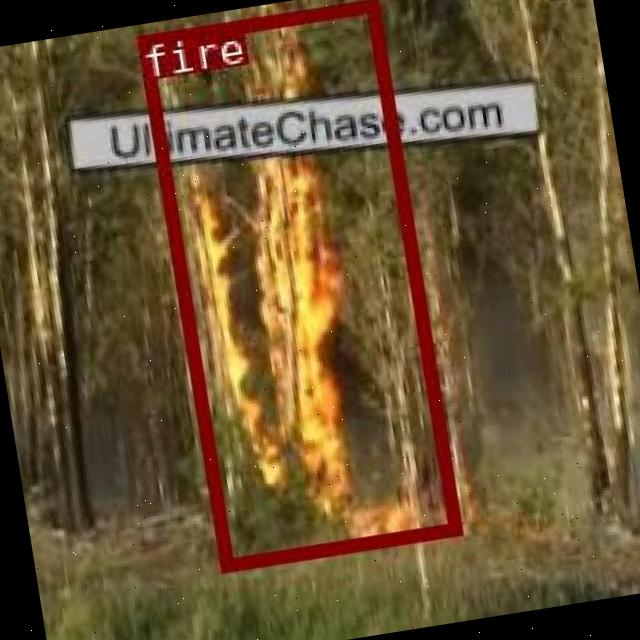fire: (134, 0, 459, 570)
